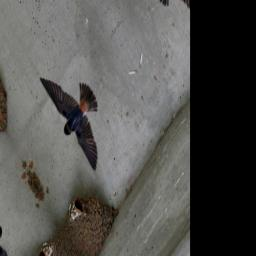Swallow: (34, 37, 119, 183)
